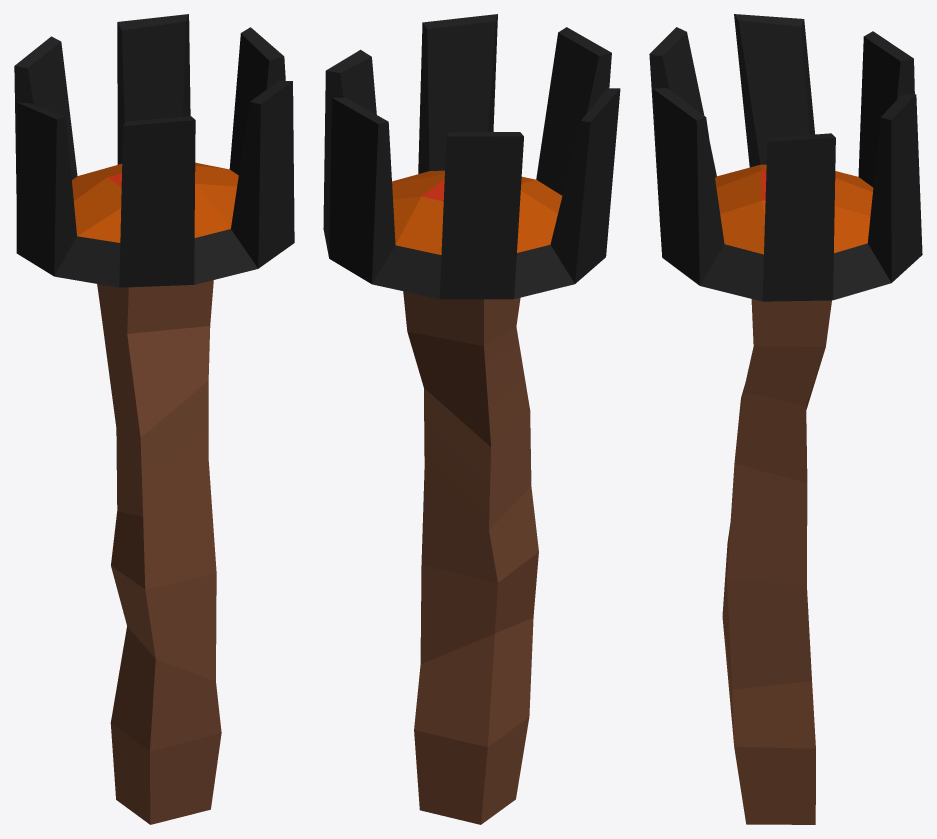
File: Torch.fbx
3 views of the same model, side by side, from view 1: azimuth 30°, elevation 25°; view 2: azimuth 150°, elevation 25°; view 3: azimuth 270°, elevation 25° (orthographic).
Visible parts, largest first — view 1: Torch; view 2: Torch; view 3: Torch.
Boxes of the visible parts, x1=… form: Torch: x1=14, y1=14, x2=294, y2=824; Torch: x1=323, y1=14, x2=620, y2=824; Torch: x1=649, y1=14, x2=922, y2=824.
Bounding box in the file's own units: 450 × 1245 × 416.
Materials: 1 (1 with a texture image).
